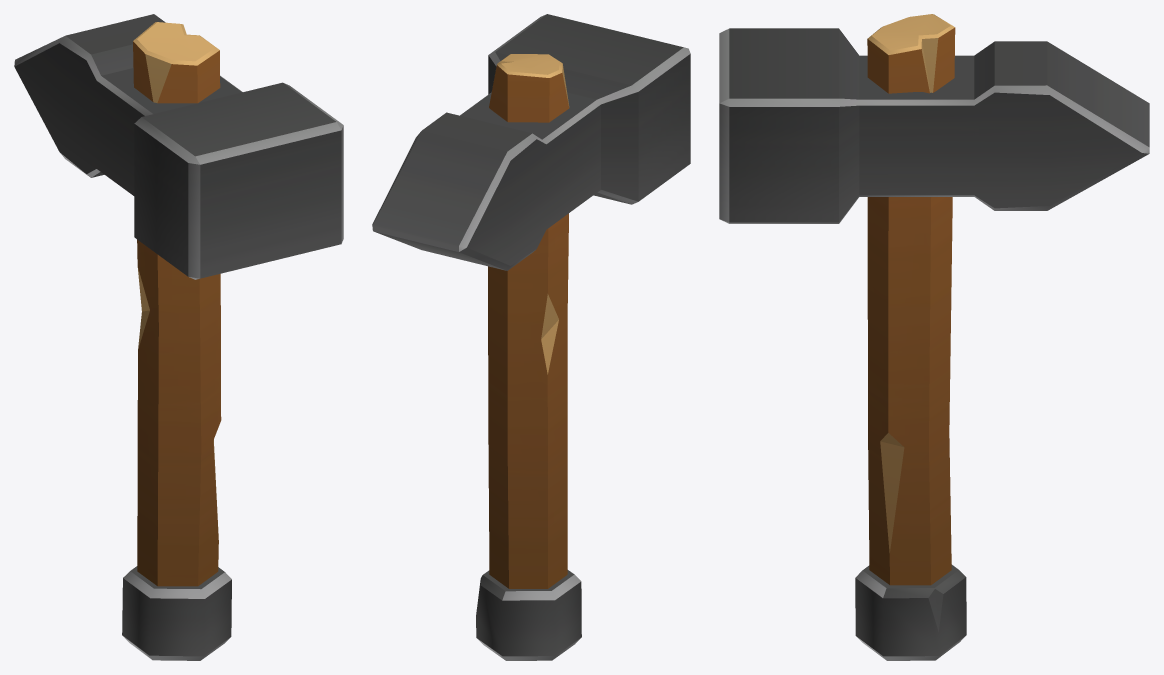
The model's file is Hammer_1_A.glb.
3 views of the same model, side by side, from view 1: azimuth 30°, elevation 25°; view 2: azimuth 150°, elevation 25°; view 3: azimuth 270°, elevation 25° (orthographic). The views are drawn at different scales.
Parts seen in each view (by area): view 1: Hammer_1_A; view 2: Hammer_1_A; view 3: Hammer_1_A.
Part boxes in pixels (<box>): Hammer_1_A: <box>14,14,343,660</box>; Hammer_1_A: <box>372,14,690,660</box>; Hammer_1_A: <box>719,14,1149,660</box>.
Bounding box in the file's own units: 0.1313 × 0.4901 × 0.3092.
Materials: 2 (2 with a texture image).
